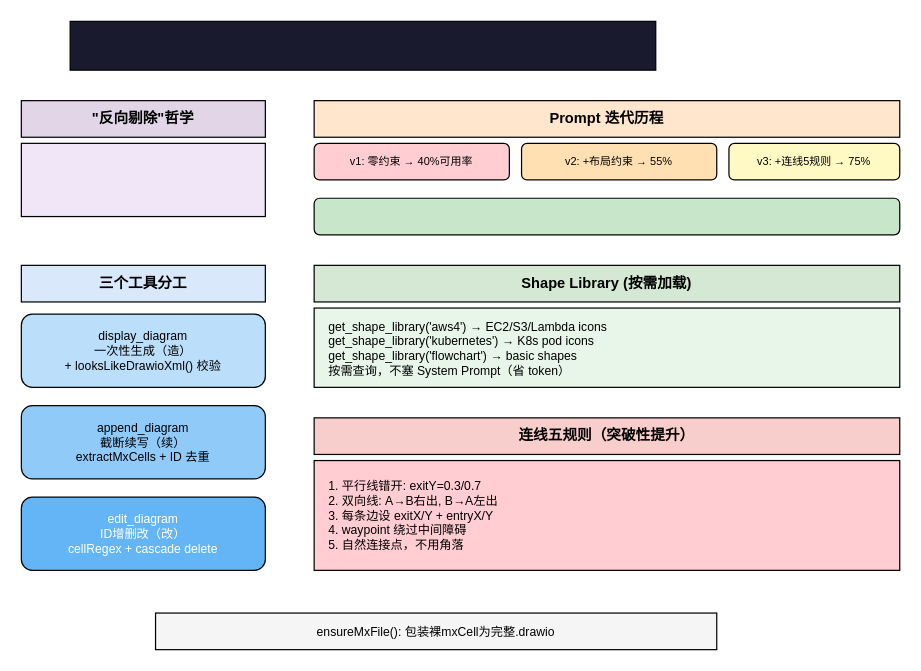
Image size: 921x671. Some labels were removed from this diagram. The centre of each missing label's shape, as x and y in pixels:
"Draw.io 架构图工具链 — Prompt 工程实践" belongs at point (362, 45).
"LLM 只生成裸 mxCell (不关心 mxfile/root 包装) 代码补全机械部分" belongs at point (142, 179).
"v4: 当前SKILL.md → 90%可用率" belongs at point (606, 216).
